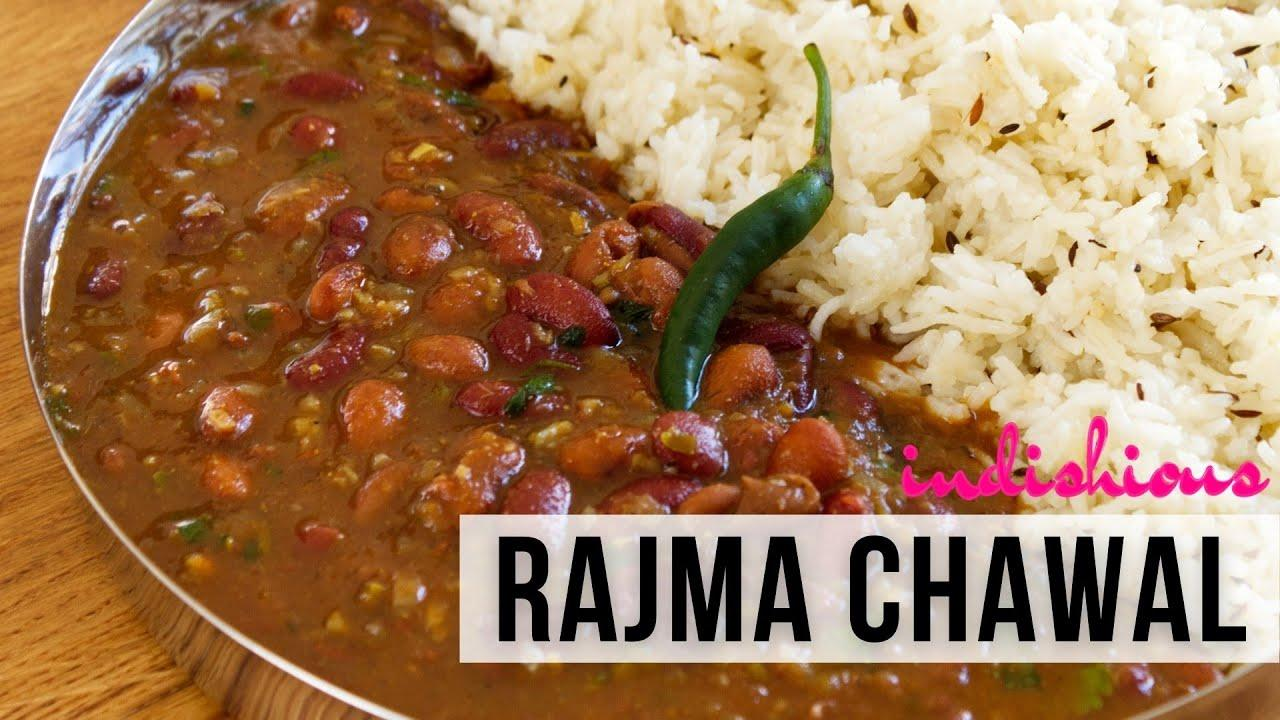rajma: (171, 102, 672, 720)
rice: (695, 0, 1265, 441), (642, 0, 1207, 443)
